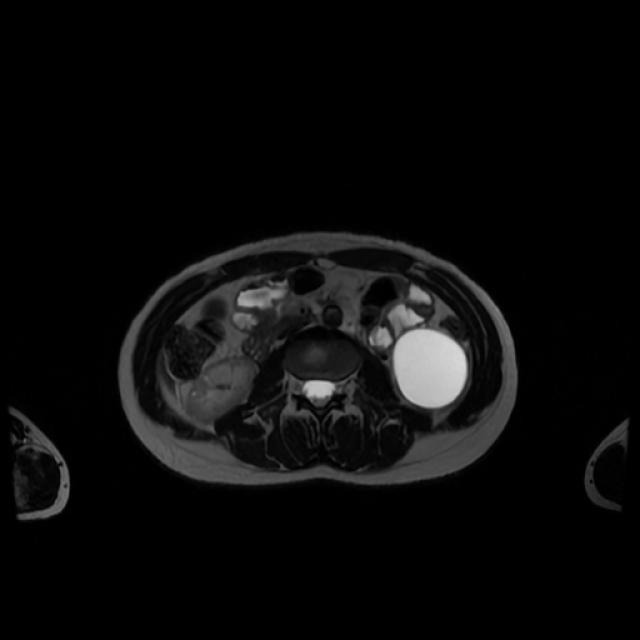sag: (185, 353, 260, 421)
sol: (394, 329, 467, 409)
